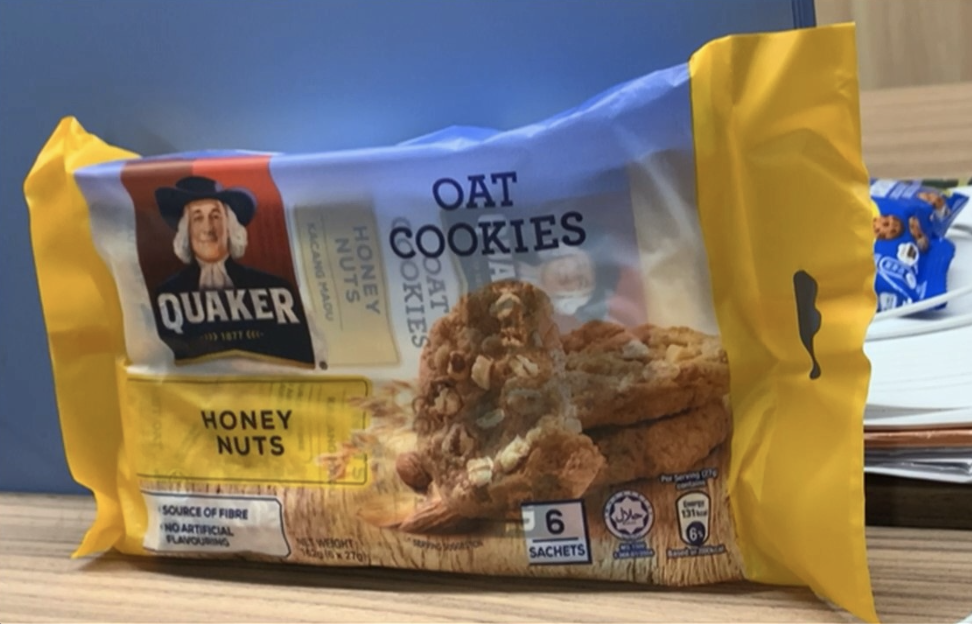cookies_100g-199g: (115, 180, 709, 552)
